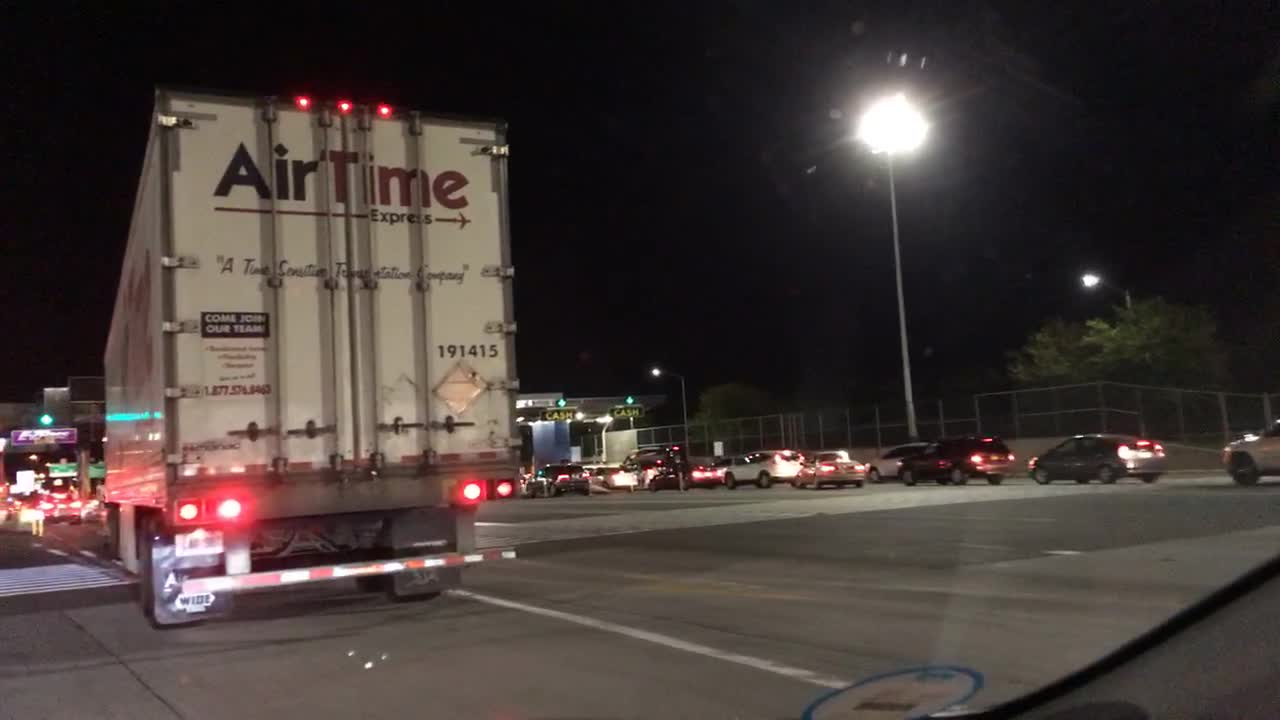car: (1023, 432, 1171, 486), (894, 429, 1017, 488), (1216, 415, 1278, 486), (722, 446, 806, 491), (863, 438, 937, 484), (787, 448, 866, 491), (523, 459, 593, 498), (619, 444, 679, 487), (647, 461, 721, 492), (35, 486, 84, 526), (586, 464, 640, 494), (707, 452, 749, 476), (16, 500, 49, 526), (79, 498, 105, 523), (582, 464, 620, 477), (518, 469, 535, 498), (0, 498, 16, 520)
traffic light: (39, 411, 53, 426), (624, 395, 634, 406), (557, 398, 566, 408)
traffic sign: (45, 456, 106, 479), (14, 468, 36, 492)
truck: (94, 81, 529, 635)
